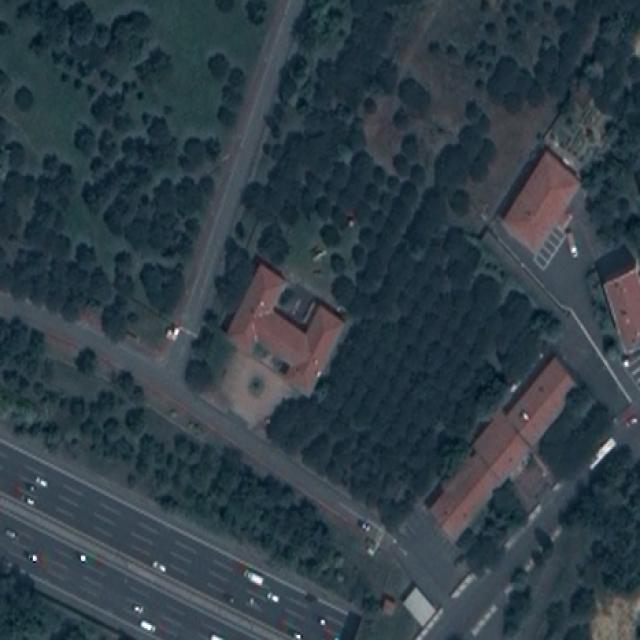Batiment: (228, 260, 344, 393), (430, 413, 529, 540), (504, 148, 580, 270), (504, 356, 575, 446), (595, 246, 640, 354)
